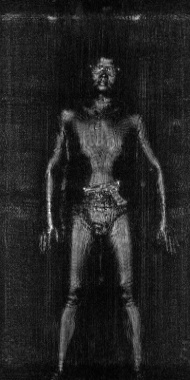gun: (79, 173, 130, 206)
